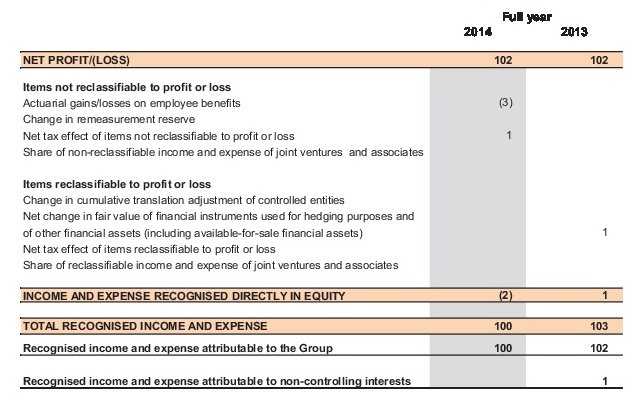table: (0, 0, 637, 404)
